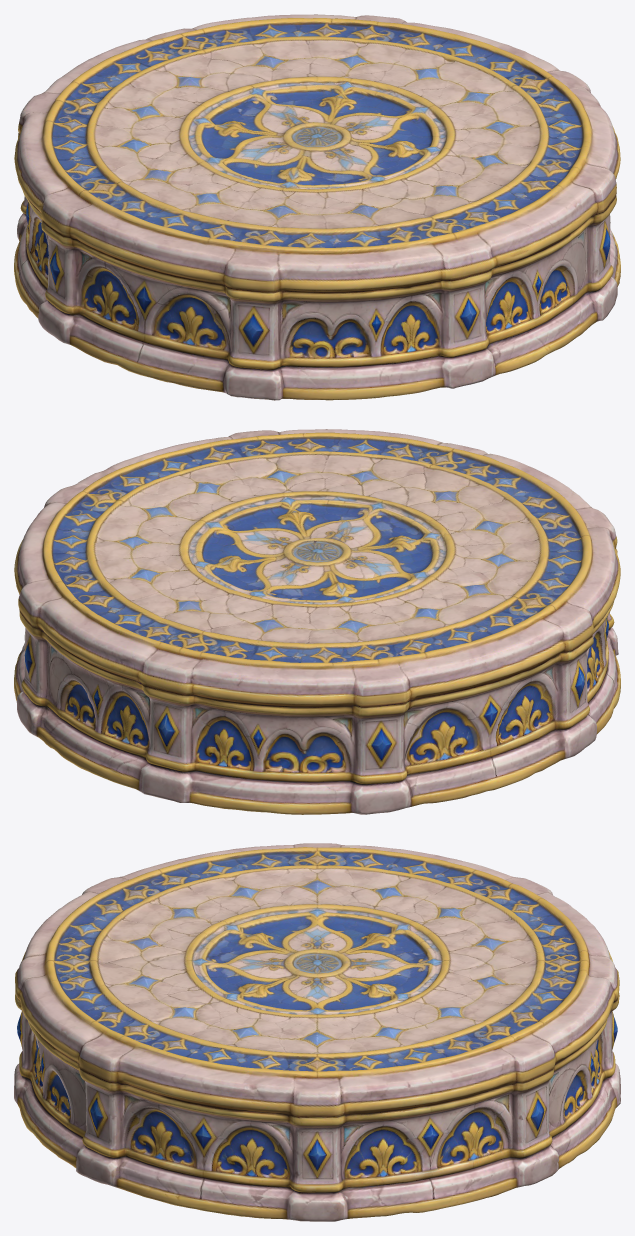
3 views of the same model, one above another, from view 1: azimuth 30°, elevation 25°; view 2: azimuth 150°, elevation 25°; view 3: azimuth 270°, elevation 25° (orthographic).
Visible parts, largest first — view 1: tripo_node_ea8ff2a1-e1e5-4645-ac9e-d3a8947a7e6f; view 2: tripo_node_ea8ff2a1-e1e5-4645-ac9e-d3a8947a7e6f; view 3: tripo_node_ea8ff2a1-e1e5-4645-ac9e-d3a8947a7e6f.
Boxes of the visible parts, x1,y1,x2,y2 form: tripo_node_ea8ff2a1-e1e5-4645-ac9e-d3a8947a7e6f: [14, 14, 620, 400]; tripo_node_ea8ff2a1-e1e5-4645-ac9e-d3a8947a7e6f: [14, 429, 620, 814]; tripo_node_ea8ff2a1-e1e5-4645-ac9e-d3a8947a7e6f: [14, 843, 620, 1221].
Bounding box in the file's own units: 0.9756 × 0.243 × 0.9779.
Materials: 1 (1 with a texture image).
